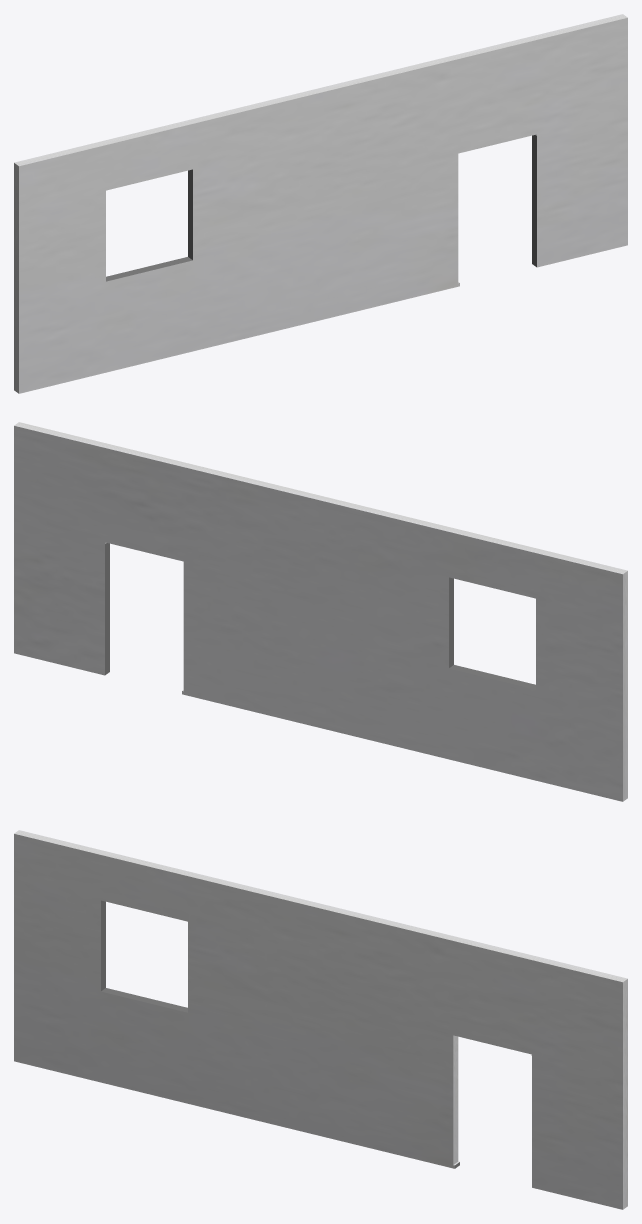
File: paredFrontal.obj
3 views of the same model, one above another, from view 1: azimuth 30°, elevation 25°; view 2: azimuth 150°, elevation 25°; view 3: azimuth 330°, elevation 25° (orthographic).
Parts seen in each view (by area): view 1: pCube23; view 2: pCube23; view 3: pCube23.
Part boxes in pixels (x1,y1,x2,y2): pCube23: (14, 14, 627, 393); pCube23: (14, 422, 627, 801); pCube23: (14, 830, 627, 1209).
Bounding box in the file's own units: 14 × 5 × 0.2.
Materials: 2 (1 with a texture image).
